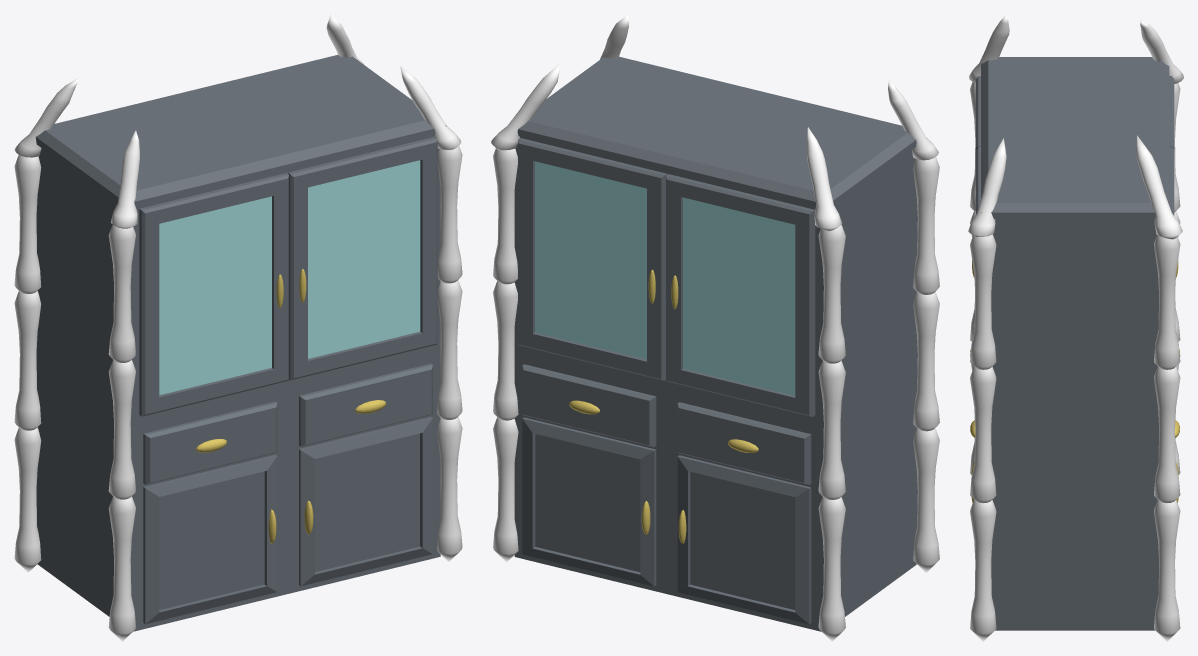
The model's file is Estante_Grande.fbx.
3 renders of one model, left to right at view 1: azimuth 30°, elevation 25°; view 2: azimuth 150°, elevation 25°; view 3: azimuth 270°, elevation 25°, orthographic. The views are drawn at different scales.
Visible parts, largest first — view 1: Estante; view 2: Estante; view 3: Estante.
Boxes of the visible parts, left/top/right/bottom form: Estante: left=14, top=14, right=462, bottom=641; Estante: left=491, top=14, right=939, bottom=641; Estante: left=968, top=14, right=1183, bottom=641.
Bounding box in the file's own units: 2.15 × 2.93 × 1.17.
